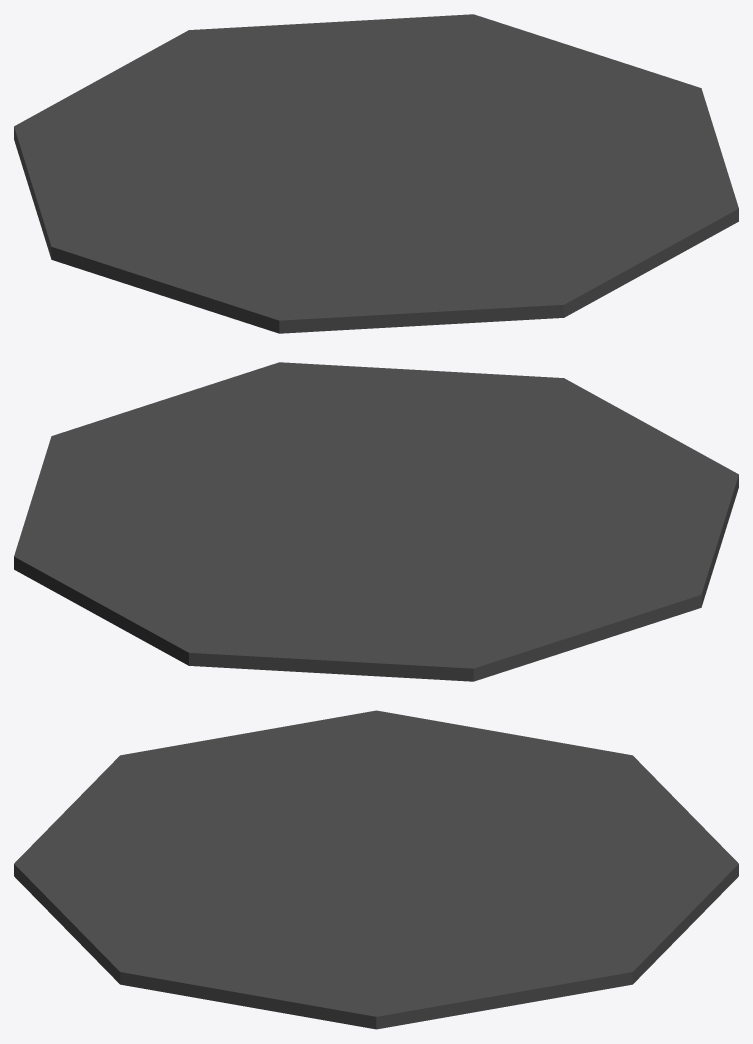
The model's file is Manhole.fbx.
3 views of the same model, one above another, from view 1: azimuth 30°, elevation 25°; view 2: azimuth 150°, elevation 25°; view 3: azimuth 270°, elevation 25° (orthographic). The views are drawn at different scales.
Visible parts, largest first — view 1: Manhole; view 2: Manhole; view 3: Manhole.
Part boxes in pixels (x1=…): Manhole: x1=14, y1=14, x2=738, y2=333; Manhole: x1=14, y1=362, x2=738, y2=681; Manhole: x1=14, y1=710, x2=738, y2=1029.
Bounding box in the file's own units: 103 × 1.98 × 103.
